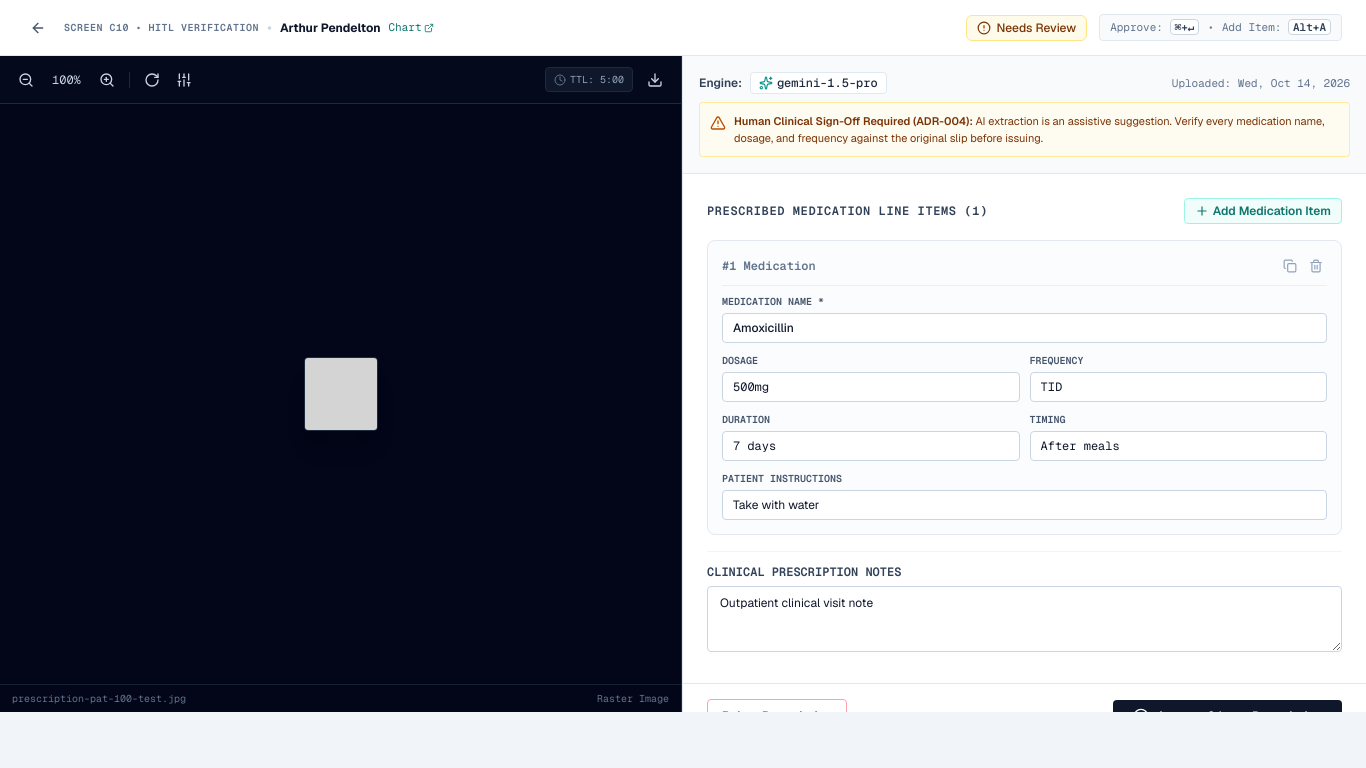
it: PrescriptionReviewDetail Component (Screen C10) › dynamically adds and removes medication items
Expected: the field showing "Amoxicillin" below "Medication Name *" is shown, [722,313,1327,343]
Click Add Medication Item
Click the button "Add Medication Item" at x=1263, y=211, box [1184,198,1342,224]
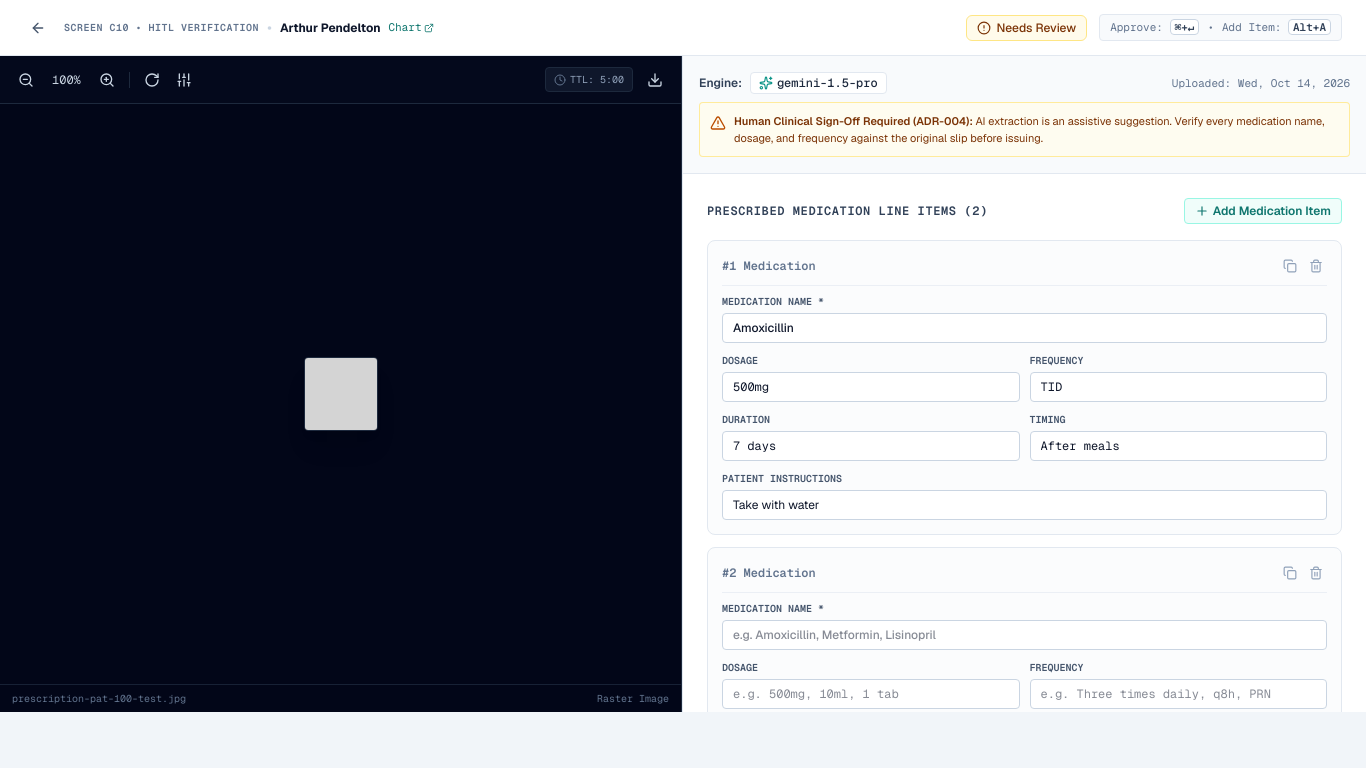
Now the text "#2 Medication" is shown, box [722,565,816,581]
Remove the added item
Click the 2nd button titled "Remove item" at x=1316, y=573, box [1305,562,1327,584]
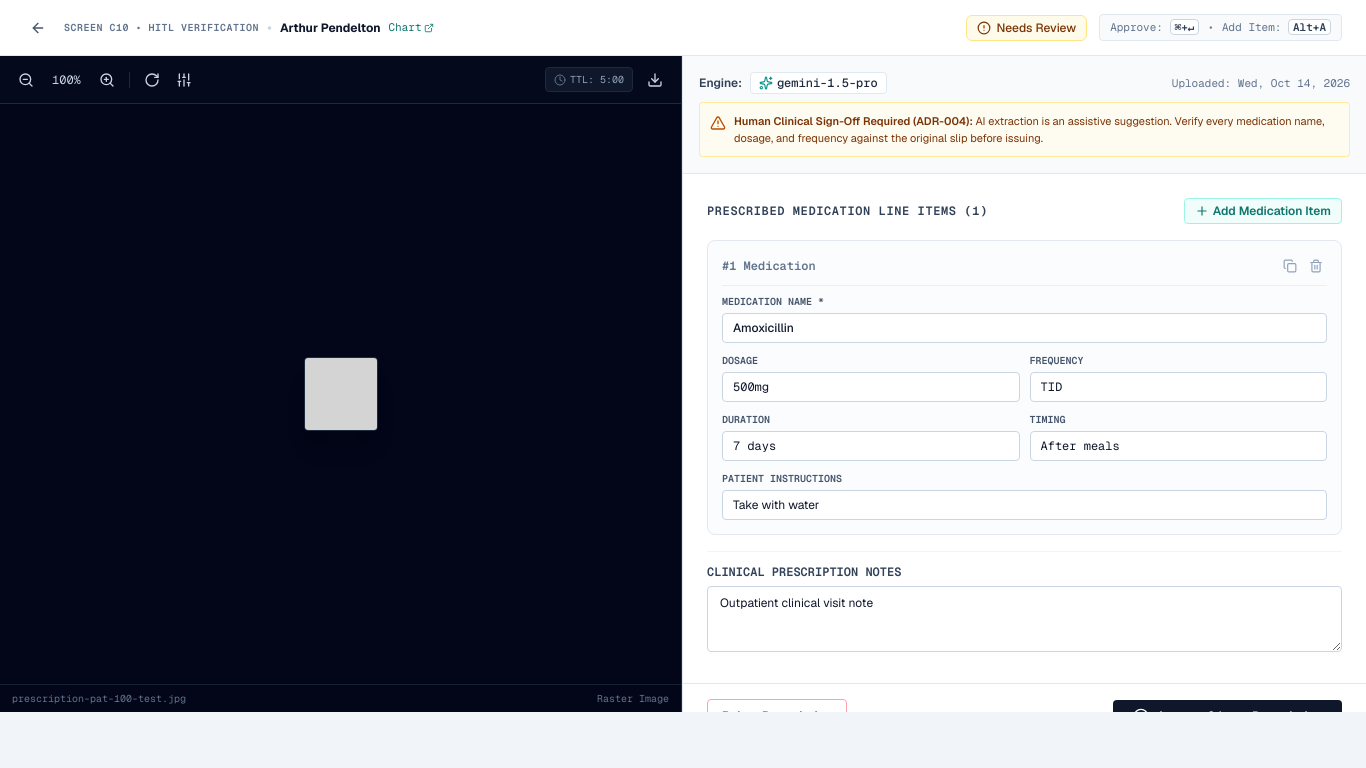
Now the text "#2 Medication" is gone
